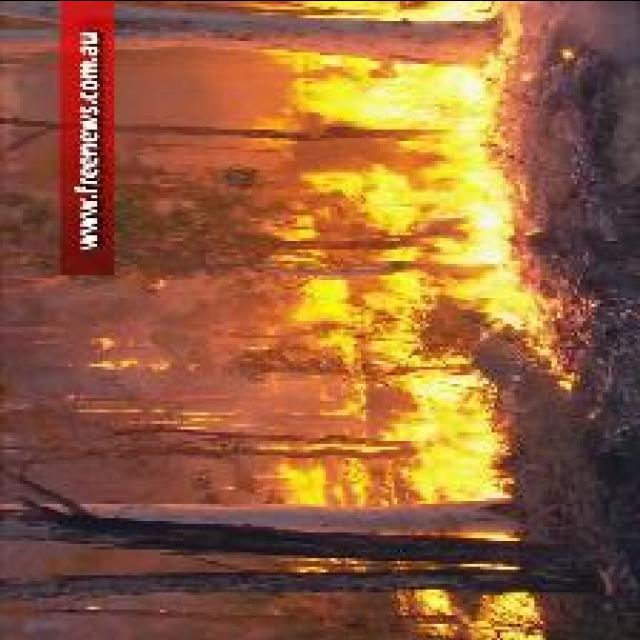Fire: (264, 0, 544, 506), (292, 277, 368, 420), (394, 589, 539, 640), (255, 460, 328, 506)
